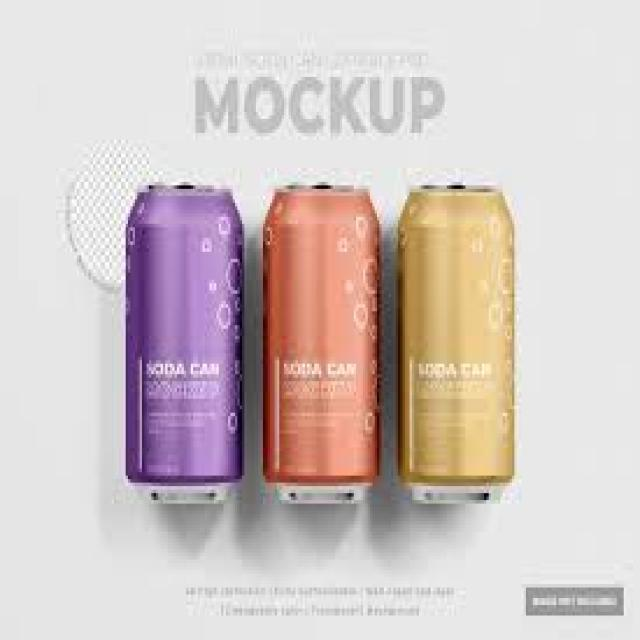Cans: (116, 164, 254, 528), (386, 175, 526, 510), (254, 175, 388, 514)
